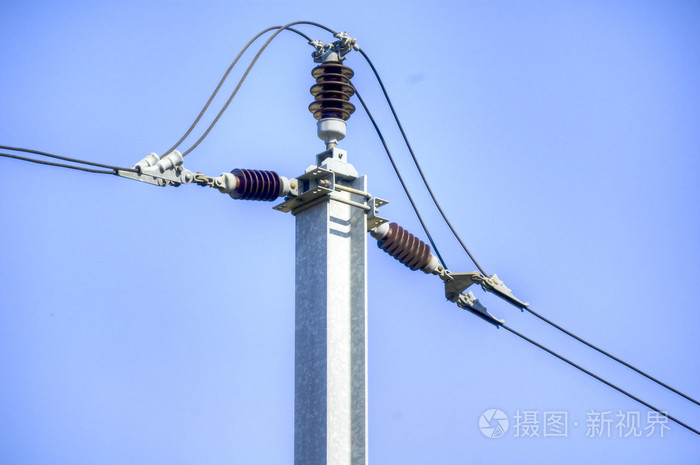insulator: (310, 63, 357, 122), (380, 226, 433, 274), (236, 167, 281, 201)
